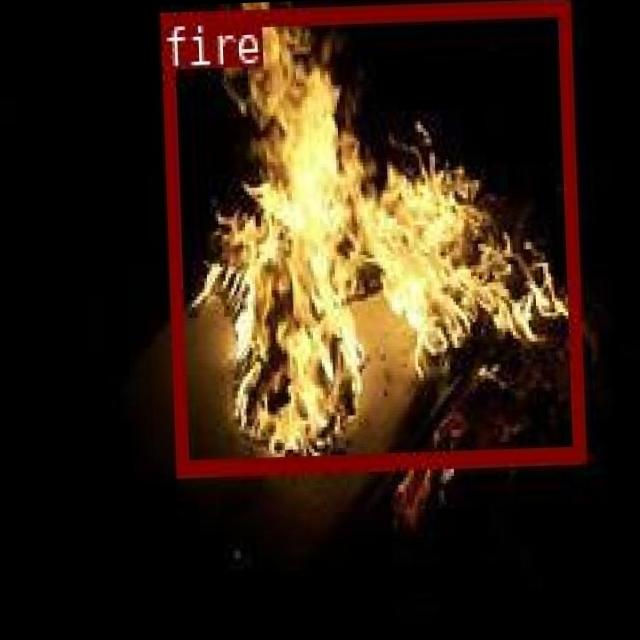fire: (160, 0, 582, 471)
